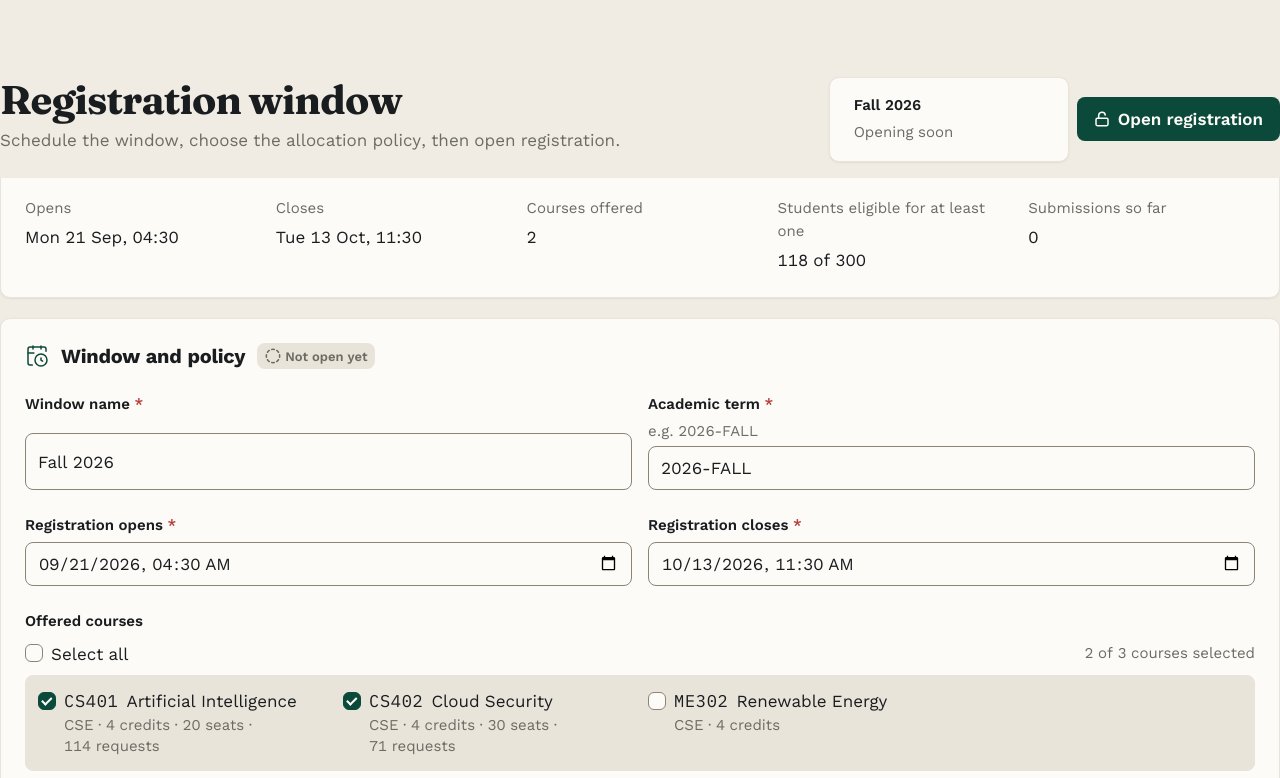
it: RegistrationWindowPage › refuses a window with no offered courses
Expected: the field labelled "Window name" is shown, [25,434,632,490]
Click the checkbox labelled "CS401 Artificial Intelligence": (47, 701) [38,692,56,710]
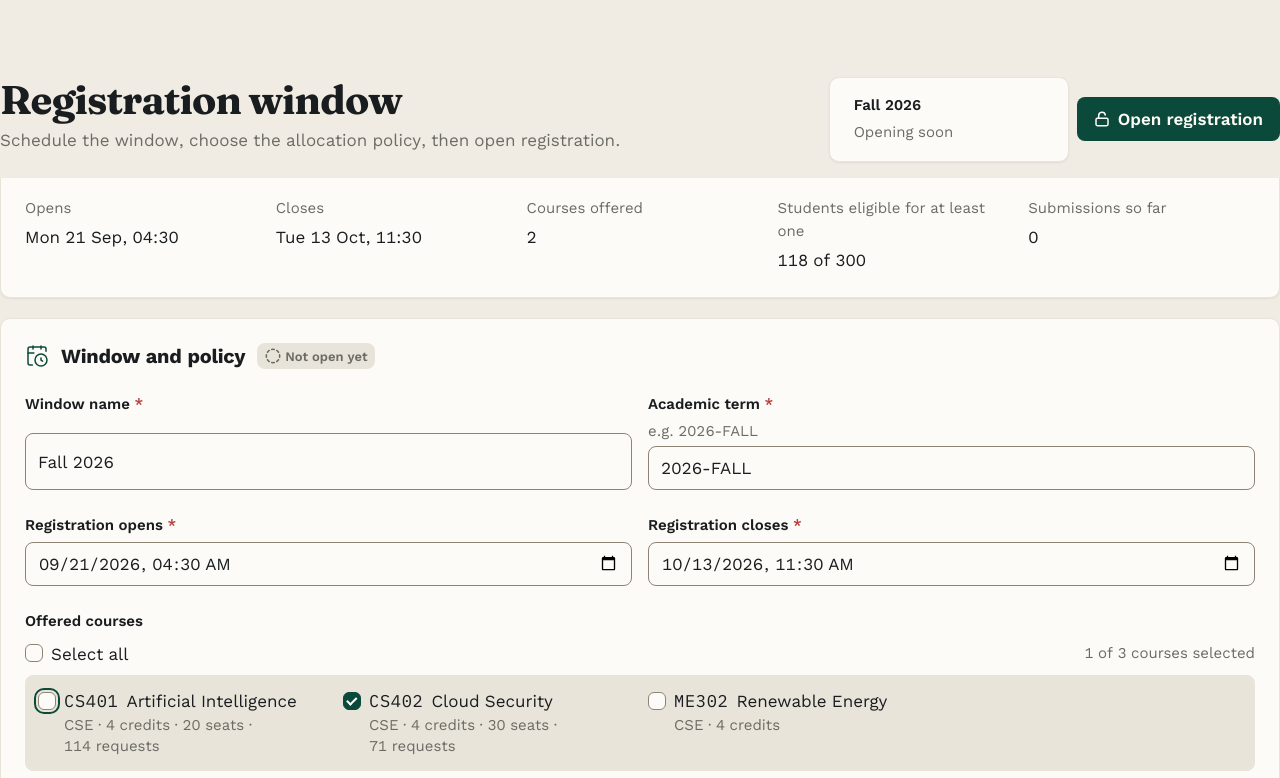
Click the checkbox labelled "CS402 Cloud Security": (352, 701) [343,692,361,710]
(page scrolled)
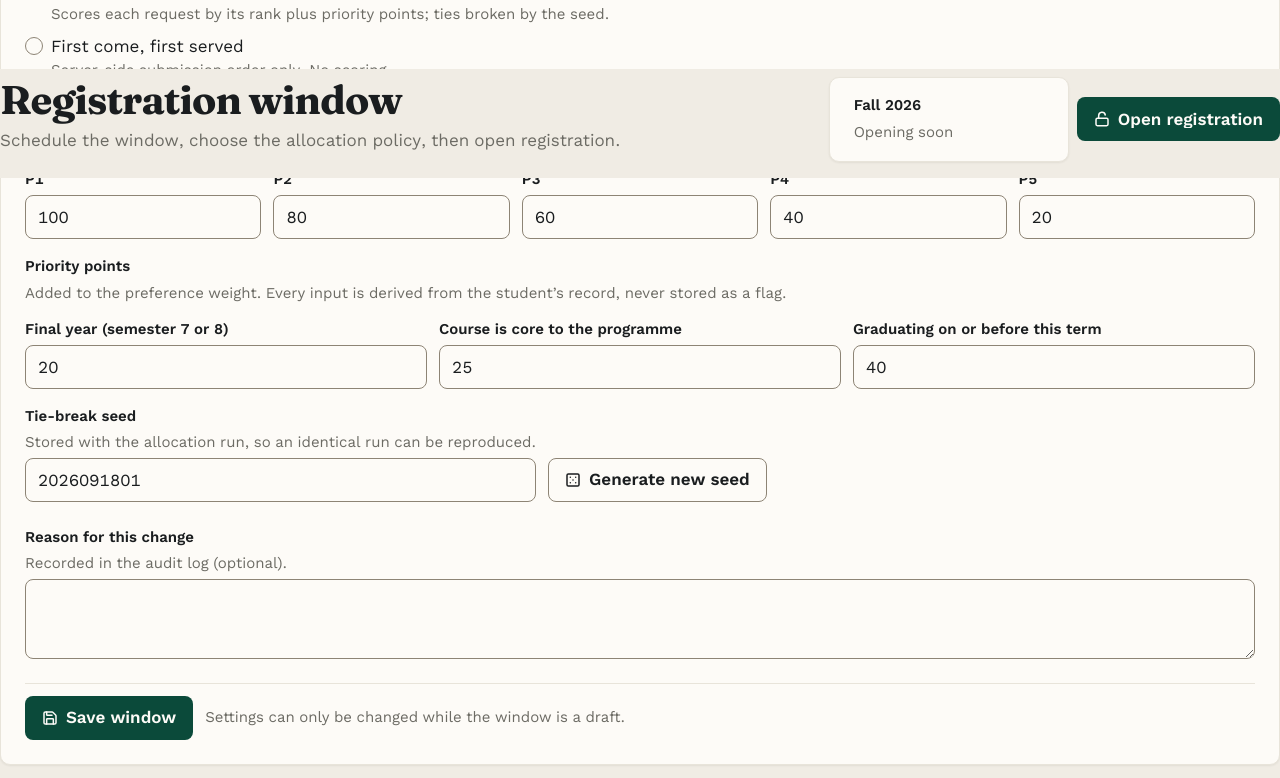
Click the button "Save window": (109, 718) [25,696,193,740]
(page scrolled)
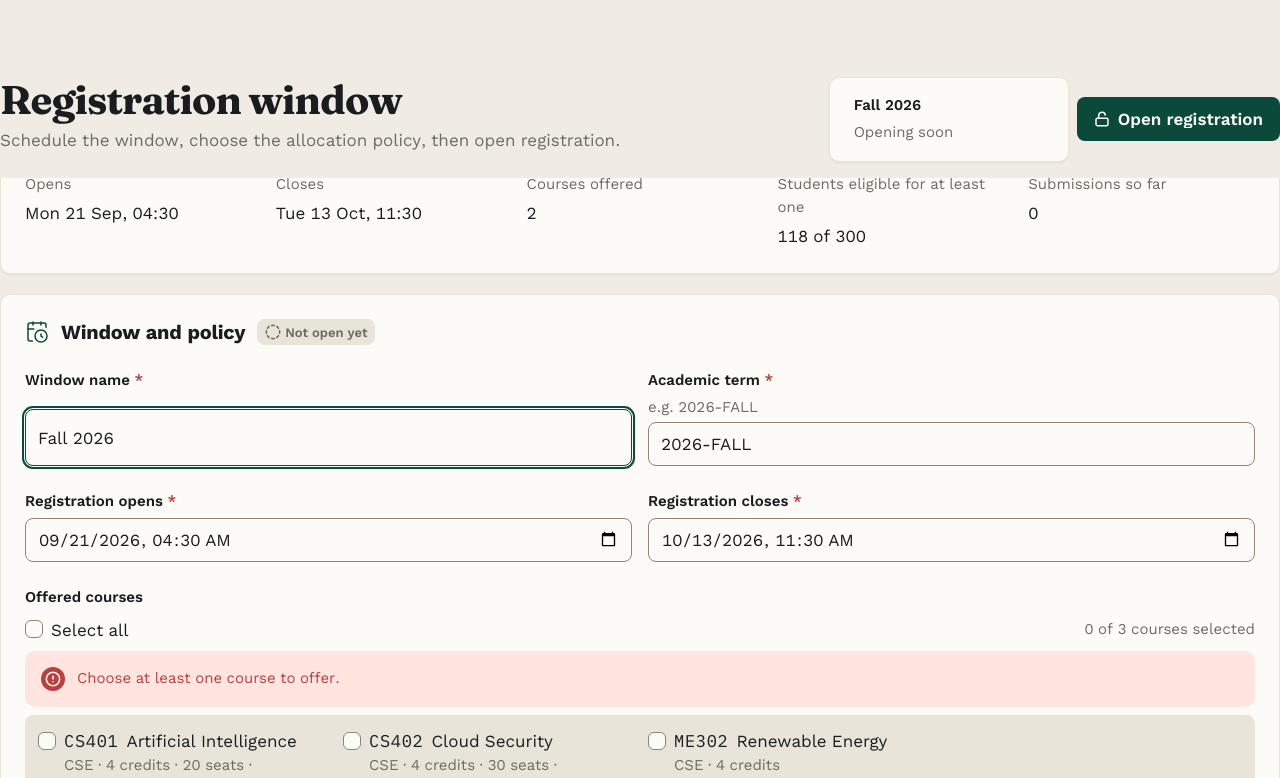
Expected: the text "Choose at least one course to offer." is shown, [77,668,340,690]
